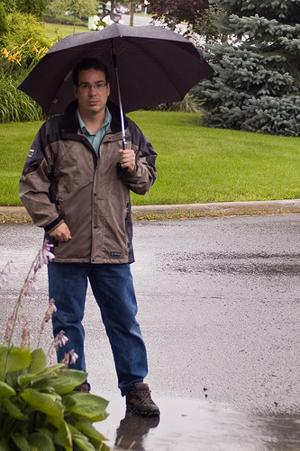person: (19, 57, 161, 420)
